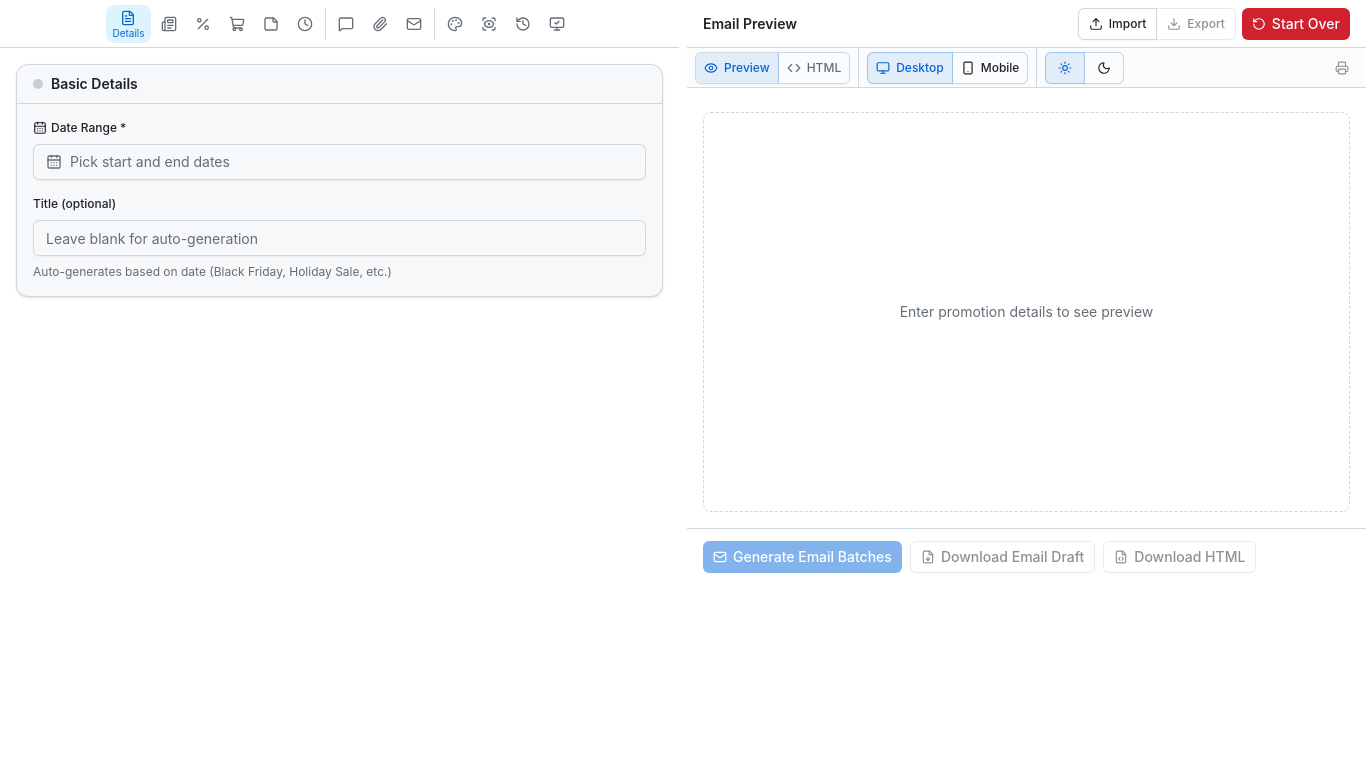
it: PromotionPage Desktop Layout › shows the picked tool card when clicking its icon toolbar button
Click the button with test id "toolbar-icon-howToShopCard" at (236, 24), box [220, 4, 252, 42]
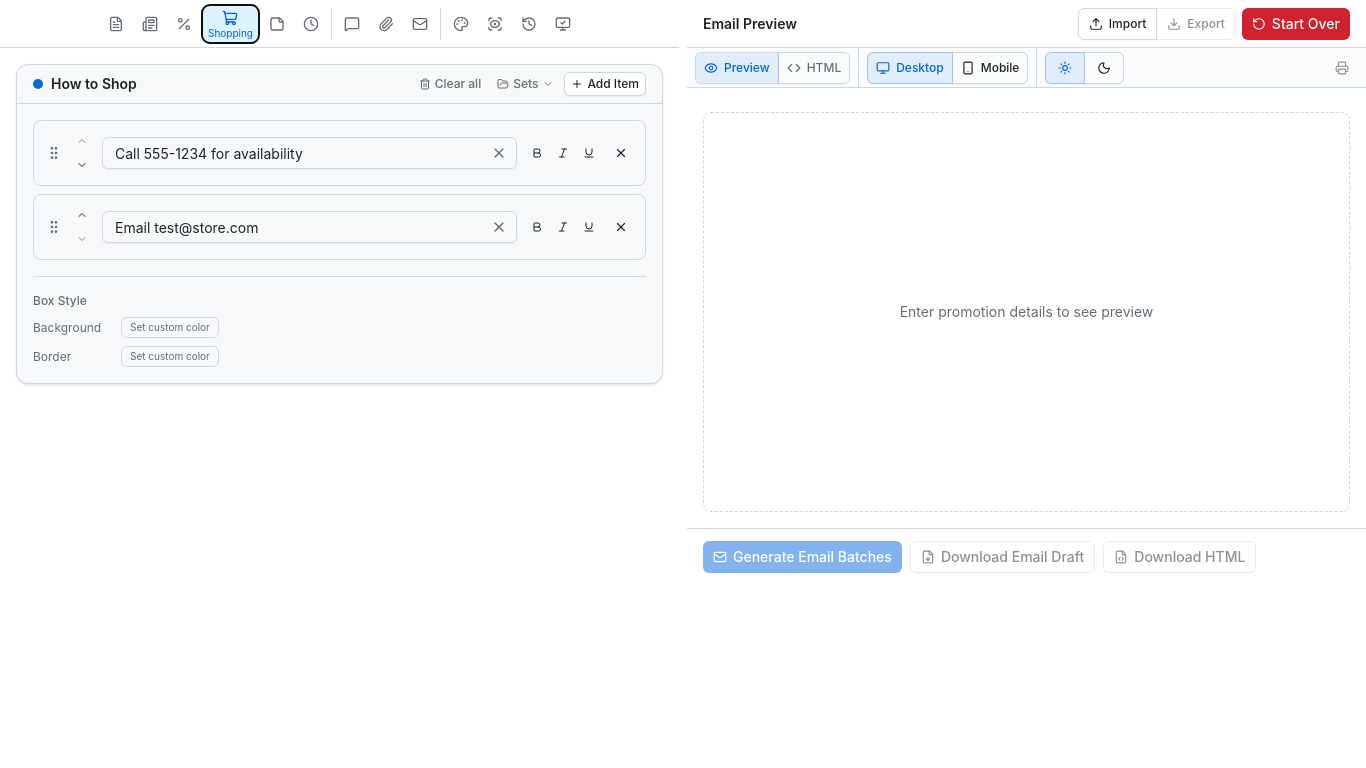
Now the element that starts with "How to Shop" is shown, box [16, 64, 663, 384]
Now the heading "How to Shop" is shown, box [51, 77, 137, 91]
